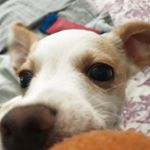puppy: (3, 19, 148, 150)
